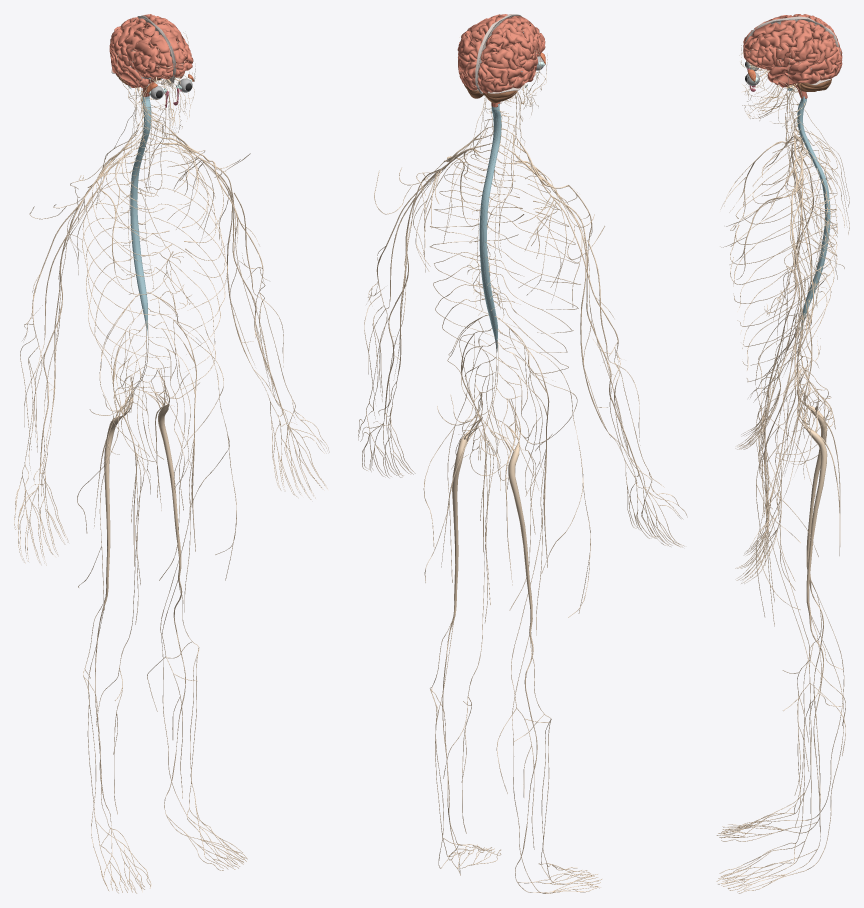
The model's file is nervous.glb.
The picture shows the model from 3 angles, left to right: view 1: azimuth 30°, elevation 25°; view 2: azimuth 150°, elevation 25°; view 3: azimuth 270°, elevation 25°; orthographic projection. The views are drawn at different scales.
Visible parts, largest first — view 1: Optic chiasm.l, Midbrain.l, Spinal dura; view 2: Optic chiasm.l, Midbrain.l, Spinal dura; view 3: Optic chiasm.l, Midbrain.l, Spinal dura, Falx cerebri.
Part boxes in pixels (x1,y1,x2,y2): Optic chiasm.l: [14, 32, 329, 893]; Midbrain.l: [109, 14, 193, 87]; Spinal dura: [130, 95, 151, 335]; Optic chiasm.l: [358, 35, 687, 893]; Midbrain.l: [457, 14, 545, 93]; Spinal dura: [479, 103, 501, 350]; Optic chiasm.l: [716, 45, 849, 893]; Midbrain.l: [743, 14, 842, 87]; Spinal dura: [797, 96, 830, 329]; Falx cerebri: [745, 16, 840, 85].
Size of the model in its own units: 0.6674 by 1.69 by 0.2424.
